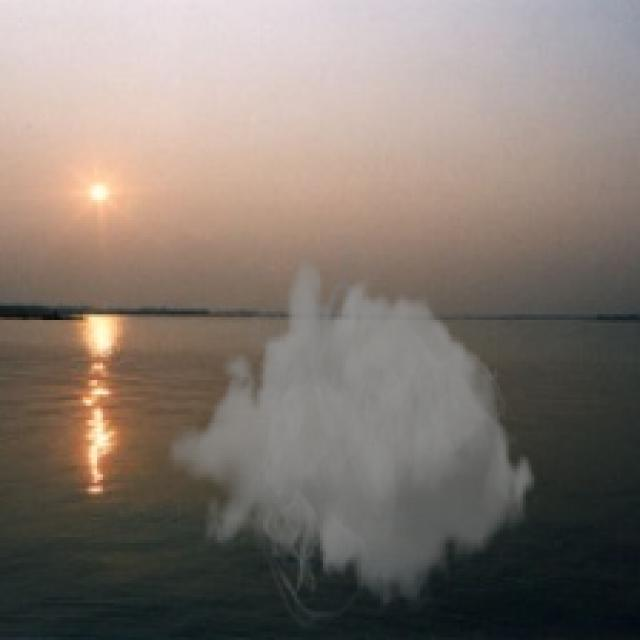smoke: (166, 243, 537, 637)
